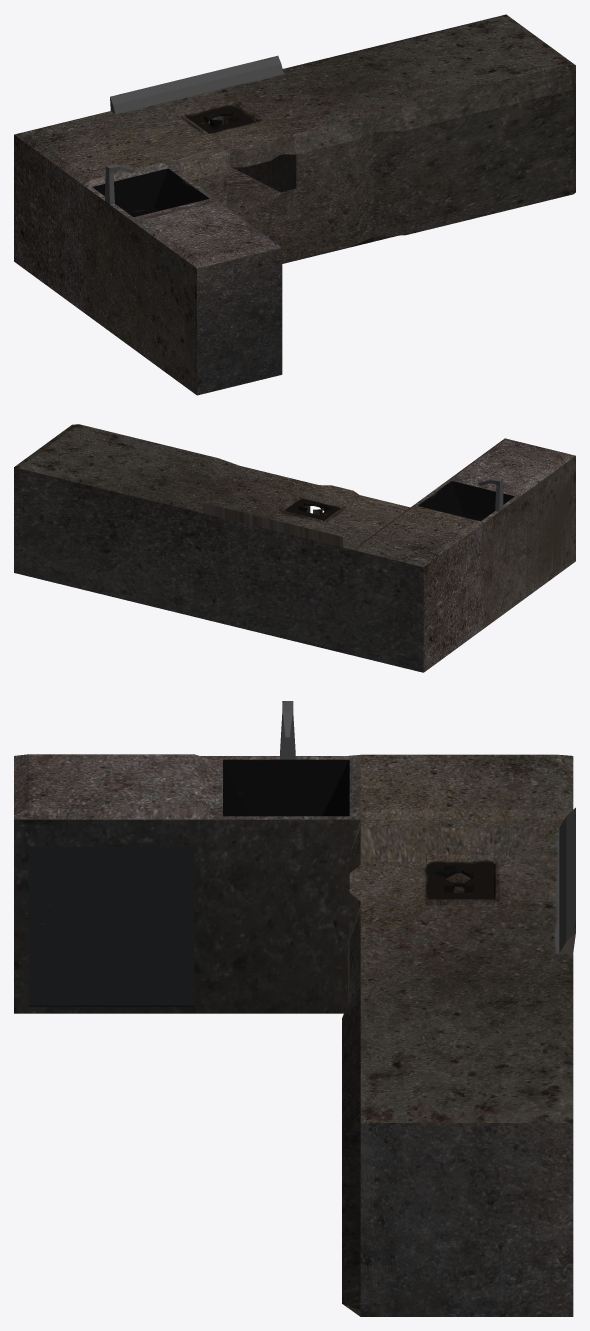
The picture shows the model from 3 angles, top to bottom: view 1: azimuth 30°, elevation 25°; view 2: azimuth 150°, elevation 25°; view 3: azimuth 270°, elevation 25°; orthographic projection. The views are drawn at different scales.
Visible parts, largest first — view 1: Chicken; view 2: Chicken; view 3: Chicken, DOOR.
Boxes of the visible parts, x1,y1,x2,y2 form: Chicken: [14, 14, 575, 395]; Chicken: [14, 424, 575, 672]; Chicken: [14, 701, 575, 1316]; DOOR: [29, 846, 194, 1005].
Bounding box in the file's own units: 519 × 165 × 336.
